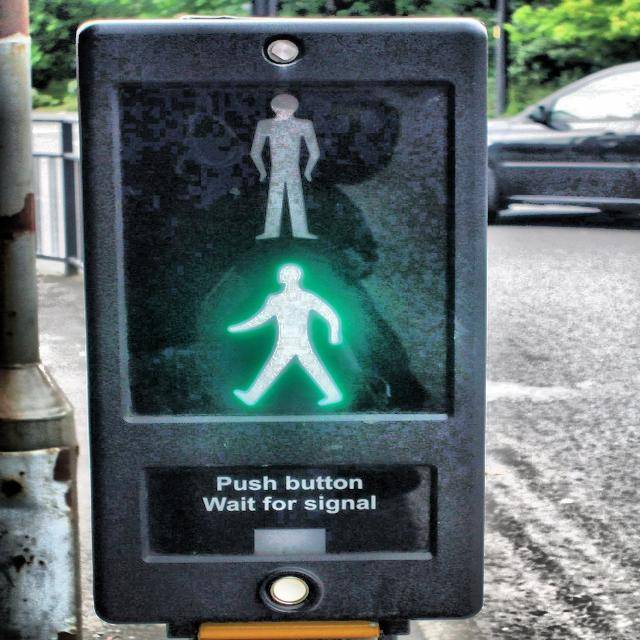green_light: (222, 260, 348, 408)
